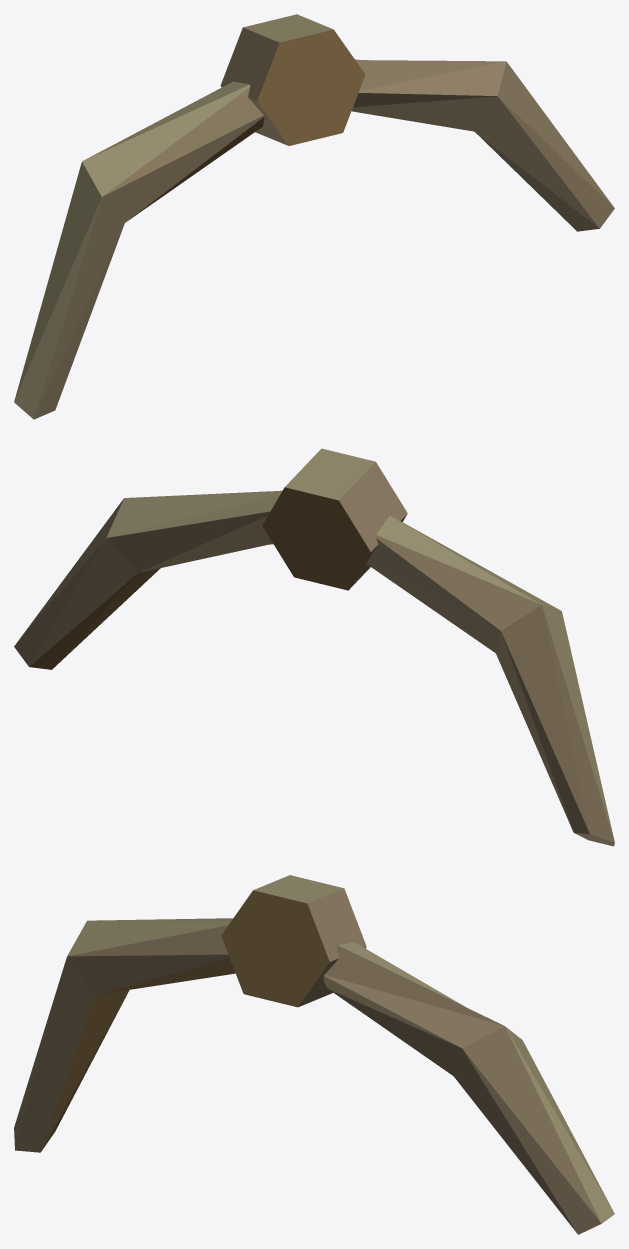
The model's file is TB_D_Env_BoneF_B.FBX.
3 renders of one model, top to bottom at view 1: azimuth 30°, elevation 25°; view 2: azimuth 150°, elevation 25°; view 3: azimuth 330°, elevation 25°, orthographic.
Parts seen in each view (by area): view 1: TB_D_Env_BoneF_B; view 2: TB_D_Env_BoneF_B; view 3: TB_D_Env_BoneF_B.
Boxes of the visible parts, x1,y1,x2,y2 form: TB_D_Env_BoneF_B: (14,14,614,419); TB_D_Env_BoneF_B: (14,448,614,846); TB_D_Env_BoneF_B: (14,875,614,1234).
Size of the model in its own units: 3.31 by 1.71 by 0.4465.
